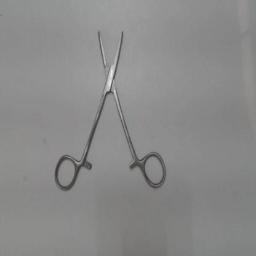Mayo Needle Holder: (50, 20, 168, 194)
